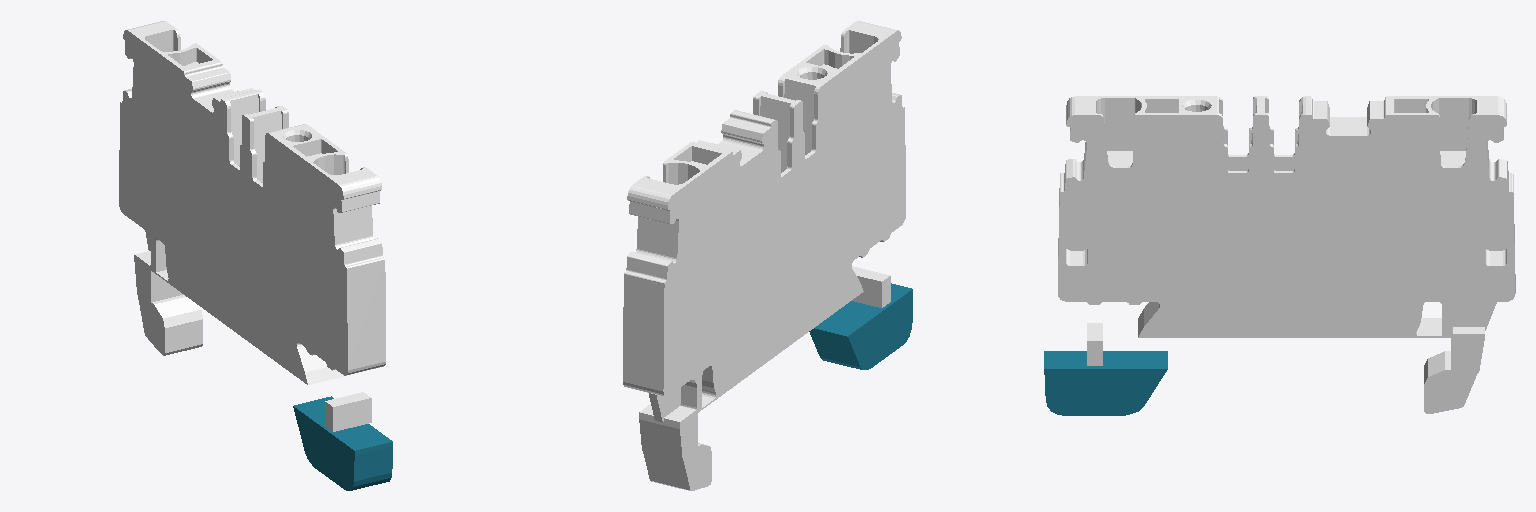
URDF robot description (W_QS_1):
<?xml version="0.0" ?>
<robot name="W_QS_1">
  <link name="main">
<!--     <contact>
      <lateral_friction value=".5"/>
    </contact> -->
    <inertial>
      <origin rpy="0 0 0" xyz="0.00254035 0.0283939 0.0206241"/>
       <mass value="0.007"/>
       <inertia ixx="1.763E-06" ixy="1.377E-06" ixz="4.158E-07" iyy="4.158E-07" iyz="1.763E-06" izz="1.377E-06"/>
    </inertial>
    <!-- <visual>
      <origin rpy="0 0 0" xyz="0 0 0"/>
      <geometry>
				<mesh filename="W_QS_Main_1.obj" scale="1 1 1"/>
      </geometry>
      <material name="WS_white">
        <color rgba="1 1 1 1"/>
      </material>
    </visual> -->

    <!-- <collision>
      <origin rpy="0 0 0" xyz="0 0 0"/>
      <geometry>
				<mesh filename="W_QS_Main_1.obj" scale="1 1 1"/>
      </geometry>
    </collision> -->

    <visual>
      <origin rpy="0 0 0" xyz="0 0 0"/>
      <geometry>
				<mesh filename="W_QS_Main_Coll_wo_Slider.obj" scale="1 1 1"/>
      </geometry>
      <material name="WS_white">
        <color rgba="1 1 1 1"/>
      </material>
    </visual>

    <collision>
      <origin rpy="0 0 0" xyz="0 0 0"/>
      <geometry>
				<mesh filename="W_QS_Main_Coll_wo_Slider.obj" scale="1 1 1"/>
      </geometry>
    </collision>
  </link>

  <joint name="main_to_hinge_left_back" type="fixed">
    <parent link="main"/>
    <child link="hinge_left_back"/>
    <origin xyz="0 0.005742 0.012" rpy="0 0 0"/>
  </joint>

  <link name="hinge_left_back">
    <inertial>
      <origin rpy="0 0 0" xyz="0.00255 0.00498658 0.00852295"/>
       <mass value="4.526E-05"/>
       <inertia ixx="1.995E-10" ixy="1.127E-10" ixz="2.829E-10" iyy="2.829E-10" iyz="1.995E-10" izz="1.127E-10"/>
    </inertial>
    <visual>
      <origin rpy="0 0 0" xyz="0 -0.005742 -0.012"/>
      <geometry>
				<mesh filename="W_QS_LeftS_1.obj" scale="1 1 1"/>
      </geometry>
      <material name="WS_blue">
        <color rgba="0.173 0.545 0.647 1"/>
      </material>
    </visual>
    <!-- <collision>
      <origin rpy="0 0 0" xyz="0 -0.005742 -0.012"/>
      <geometry>
				<mesh filename="W_QS_LeftS_1.obj" scale="1 1 1"/>
      </geometry>
    </collision> -->
  </link>

  <joint name="main_to_hinge_right_front" type="fixed">
    <parent link="main"/>
    <child link="hinge_right_front"/>
    <origin xyz="0 0.01038 0.012" rpy="0 0 0"/>
  </joint>

  <link name="hinge_right_front">
    <inertial>
      <origin rpy="0 0 0" xyz="0.00255 0.00957389 0.00855116"/>
       <mass value="4.239E-05"/>
       <inertia ixx="1.879E-10" ixy="1.057E-10" ixz="2.660E-10" iyy="2.660E-10" iyz="1.879E-10" izz="1.057E-10"/>
    </inertial>
    <visual>
      <origin rpy="0 0 0" xyz="0 -0.01038 -0.012"/>
      <geometry>
				<mesh filename="W_QS_RightS_1.obj" scale="1 1 1"/>
      </geometry>
      <material name="WS_blue">
        <color rgba="0.173 0.545 0.647 1"/>
      </material>
    </visual>
    <!-- <collision>
      <origin rpy="0 0 0" xyz="0 -0.01038 -0.012"/>
      <geometry>
				<mesh filename="W_QS_RightS_1.obj" scale="1 1 1"/>
      </geometry>
    </collision> -->
  </link>

  <joint name="hinge_left_back_to_clip" type="prismatic">
    <parent link="hinge_left_back"/>
    <child link="clip"/>
    <origin xyz="0 -0.001542 -0.009" rpy="0 0 0"/>
    <axis xyz="0 1 0"/>
    <limit lower="-0.0009" upper="0"
           effort="300" velocity="3.14159265359" />
    <safety_controller soft_lower_limit="-0.0009"
                       soft_upper_limit="0"
                       k_position="100"
                       k_velocity="2"/>
    <dynamics damping="0.5"/>
  </joint>

  <!-- 0 0.005742 0.012 -->

  <!-- <joint name="hinge_right_front_to_clip" type="revolute">
    <parent link="hinge_right_front"/>
    <child link="clip"/>
    <origin xyz="0.005109 0.00885 0.005" rpy="0 0 0"/>
    <axis xyz="0 0 1"/>
    <limit lower="-0.01" upper="0.01"
           effort="300" velocity="3.14159265359" />
    <safety_controller soft_lower_limit="-3.01941960595"
                       soft_upper_limit="3.01941960595"
                       k_position="100"
                       k_velocity="2"/>
    <dynamics damping="0.5"/>
  </joint> -->

  <link name="clip">
    <inertial>
      <origin rpy="0 0 0" xyz="0.00252297 0.0063662 0.00238966"/>
       <mass value="2.681E-04"/>
       <inertia ixx="3.829E-09" ixy="3.915E-09" ixz="1.091E-09" iyy="1.091E-09" iyz="3.829E-09" izz="3.915E-09"/>
    </inertial>
    <!-- <visual>
      <origin rpy="0 0 0" xyz="0 -0.0042 -0.005"/>
      <geometry>
				<mesh filename="W_QS_ClipS_1.obj" scale="1 1 1"/>
      </geometry>
       <material name="WS_blue">
        <color rgba="0.173 0.545 0.647 1"/>
      </material>
    </visual> -->
    <!-- <collision>
      <origin rpy="0 0 0" xyz="0 -0.0042 -0.005"/>
      <geometry>
				<mesh filename="W_QS_ClipS_1.obj" scale="1 1 1"/>
      </geometry>
    </collision> -->

    <visual>
      <origin rpy="0 0 0" xyz="0 -0.0042 -0.005"/>
      <geometry>
				<mesh filename="W_QS_Coll_Slider.obj" scale="1 1 1"/>
      </geometry>
       <material name="WS_blue">
        <color rgba="0.173 0.545 0.647 1"/>
      </material>
    </visual>

    <collision>
      <origin rpy="0 0 0" xyz="0 -0.0042 -0.005"/>
      <geometry>
				<mesh filename="W_QS_Coll_Slider.obj" scale="1 1 1"/>
      </geometry>
    </collision>
    
  </link>
</robot>

--- Facts derived from the render (not from the file) ---
Views: 3 orthographic renders of the robot side by side, from view 1: azimuth 30°, elevation 25°; view 2: azimuth 150°, elevation 25°; view 3: azimuth 270°, elevation 25°.
Model W_QS_1 with 4 links and 3 joints (1 prismatic, 2 fixed), rooted at main, posed every joint at zero.
Links seen in each view (by area): view 1: main, clip; view 2: main, clip; view 3: main, clip.
Link boxes in pixels (x1,y1,x2,y2): main: (119,21,385,431); clip: (293,396,392,490); main: (623,21,905,490); clip: (809,283,912,369); main: (1058,96,1515,413); clip: (1044,351,1167,415).
Size in the robot's own frame: 0.0051 by 0.0542 by 0.0382 metres.
Meshes: 4 distinct files referenced, 2 mesh visuals loaded (2 OBJ); not drawn: 2 (reference not matched to a file when rendering).